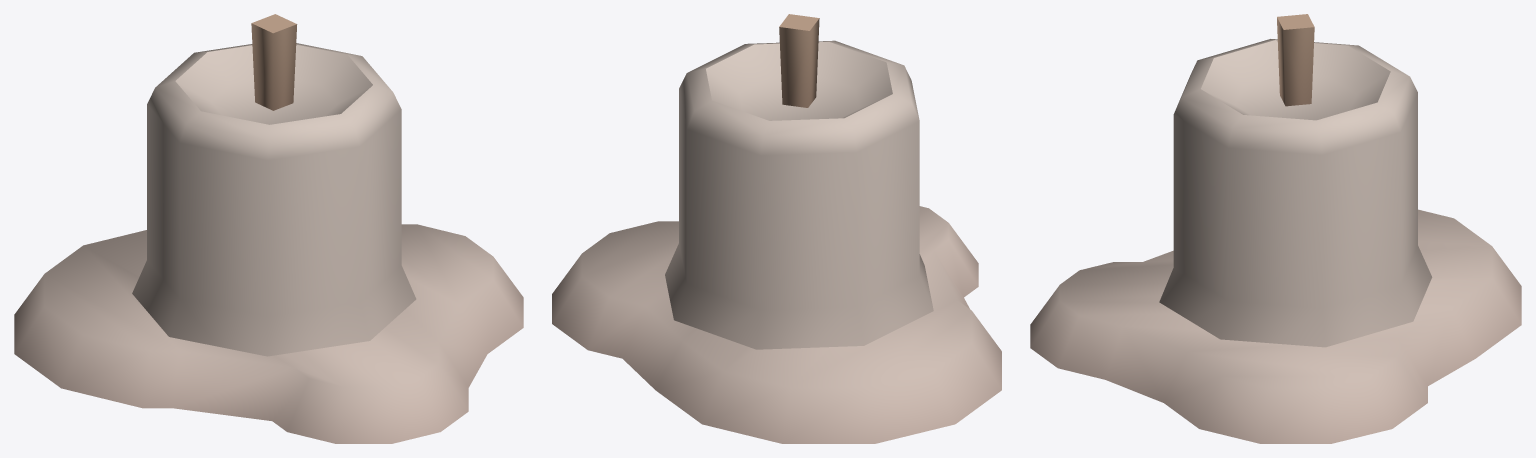
The model's file is candle-melted.glb.
3 renders of one model, left to right at view 1: azimuth 30°, elevation 25°; view 2: azimuth 150°, elevation 25°; view 3: azimuth 270°, elevation 25°, orthographic.
Parts seen in each view (by area): view 1: candle-melted; view 2: candle-melted; view 3: candle-melted.
Boxes of the visible parts, x1=… form: candle-melted: x1=14, y1=14, x2=523, y2=443; candle-melted: x1=552, y1=14, x2=1001, y2=443; candle-melted: x1=1030, y1=14, x2=1521, y2=443.
Bounding box in the file's own units: 0.2909 × 0.2002 × 0.2866.
